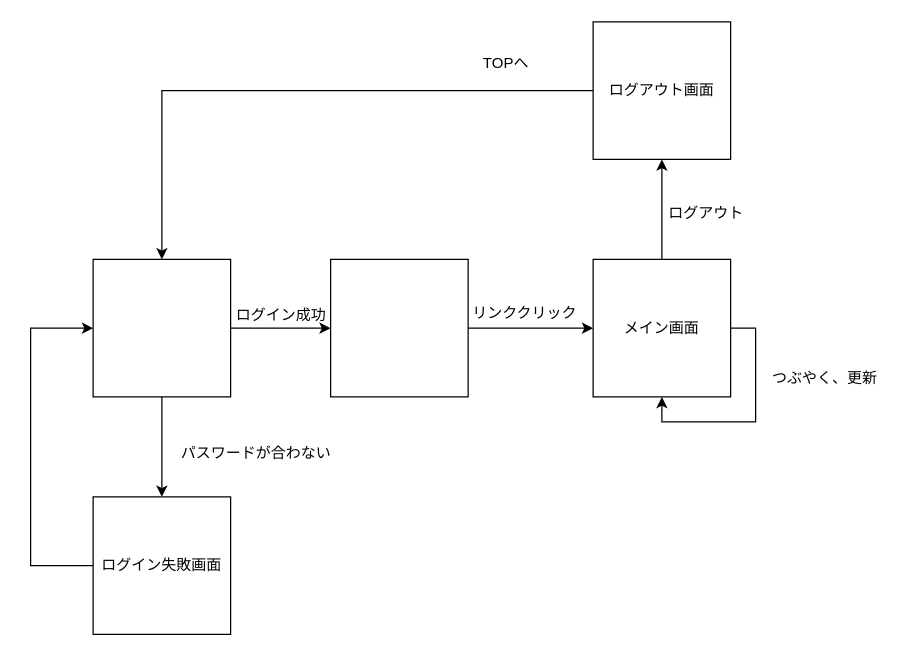
The diagram is 915 pixels wide and 656 high, and some of its shapes have lost their labels. Here are the shapes that lost their labels. From the top down, the box of each, then its label:
(92, 258, 231, 397): ログイン画面
(329, 258, 468, 397): ログイン成功画面
